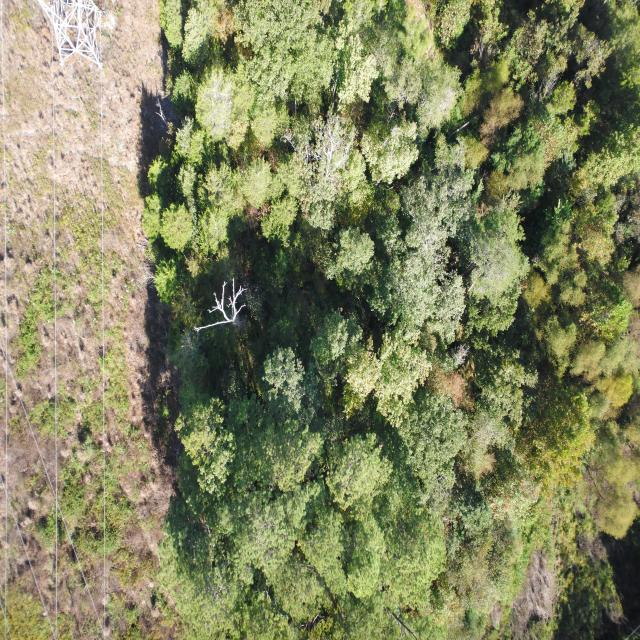Area of Interest: (147, 0, 633, 628)
